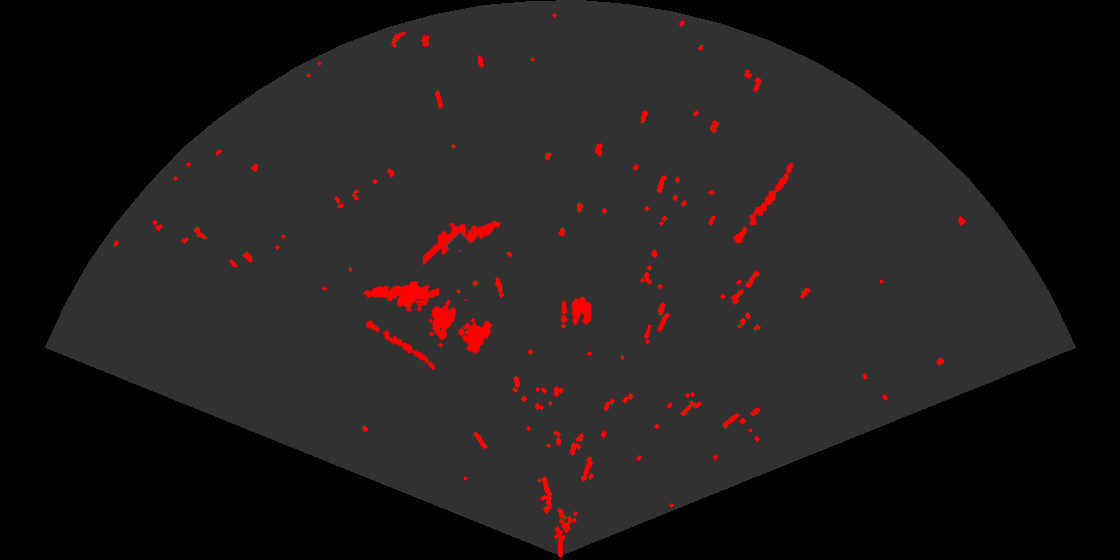ball: (560, 295, 593, 327)
cage: (416, 299, 494, 355)
chain: (732, 161, 795, 245), (360, 316, 437, 372)
frogman: (423, 219, 502, 267), (362, 279, 439, 314)
